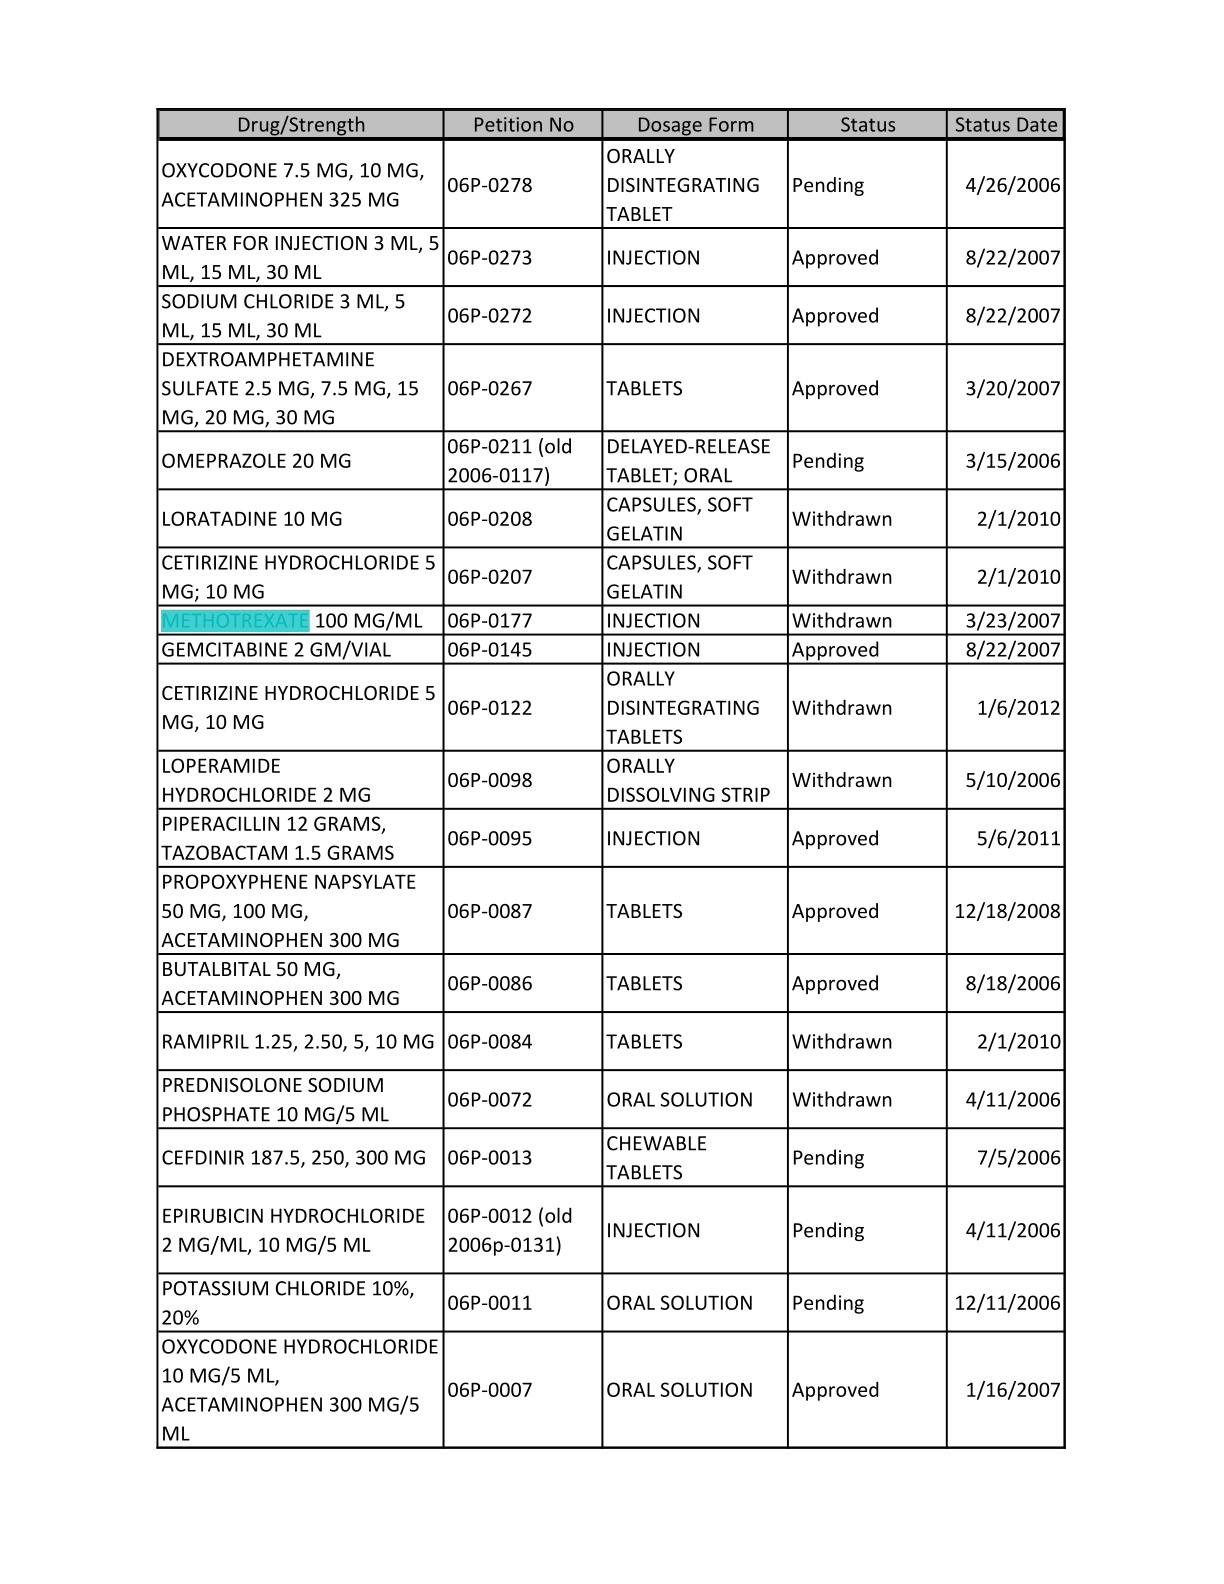full_lined: (156, 107, 1066, 1450)
